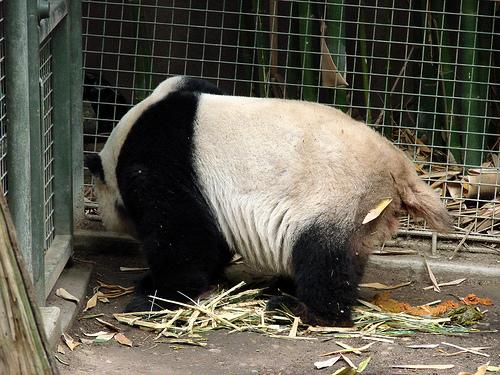panda: (85, 76, 451, 324)
